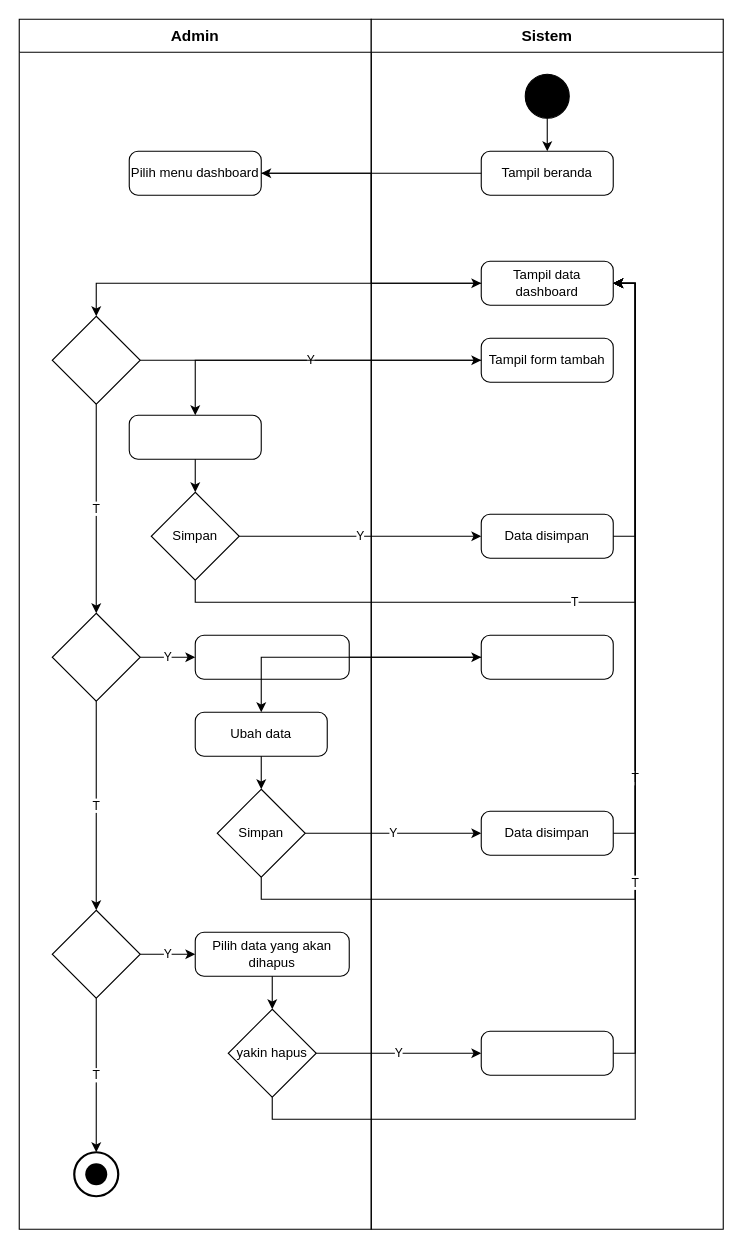
Some shapes in this 743 by 1249 pixel diagram are drawn without their labels. The shapes that lost their labels are listed below. From the top down, each one's centre as x and y in pixels, then its label:
At pixel 95 359: "Tambah".
At pixel 194 436: "Tambah data".
At pixel 95 656: "Ubah".
At pixel 271 656: "Pilih data yang di ubah".
At pixel 546 656: "Tampil form ubah".
At pixel 95 953: "Hapus".
At pixel 546 1052: "Data dihapus".
